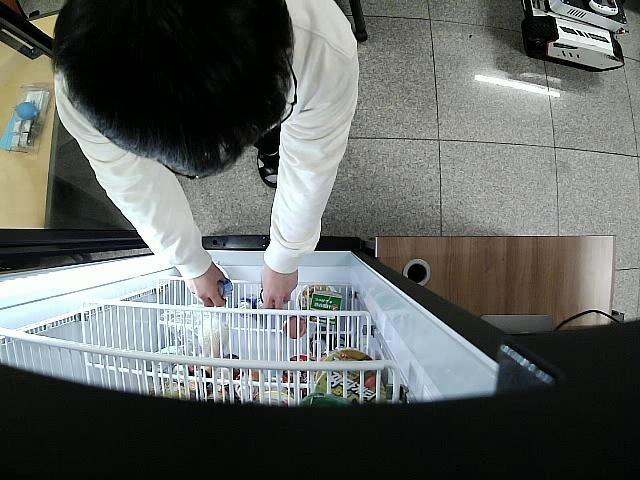15_letsbe: (216, 279, 232, 297)
